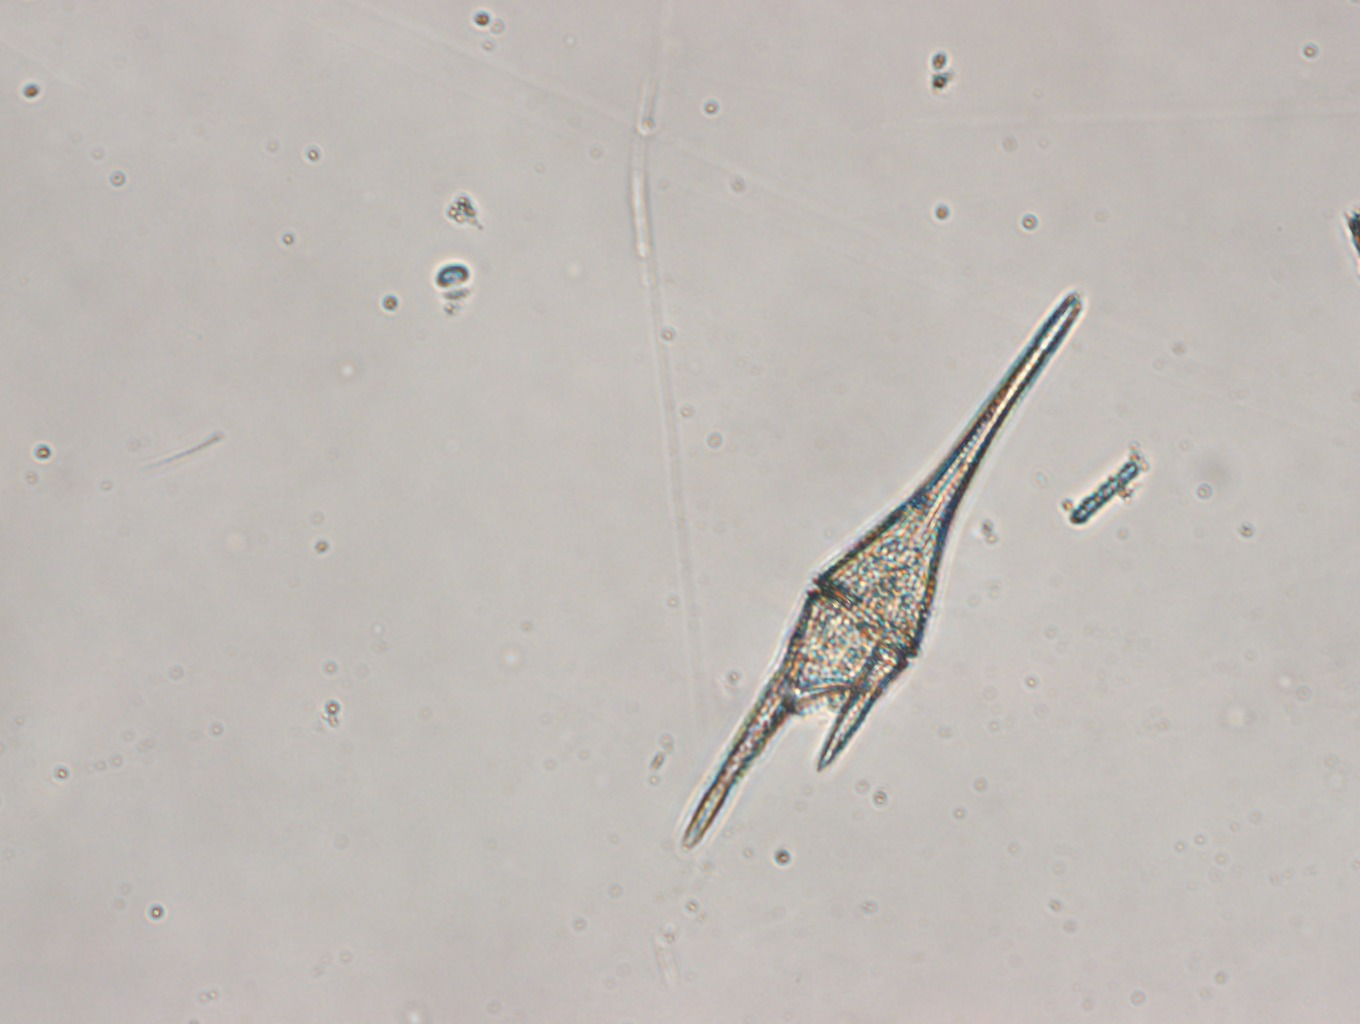ceratium furca: (679, 284, 1090, 851)
